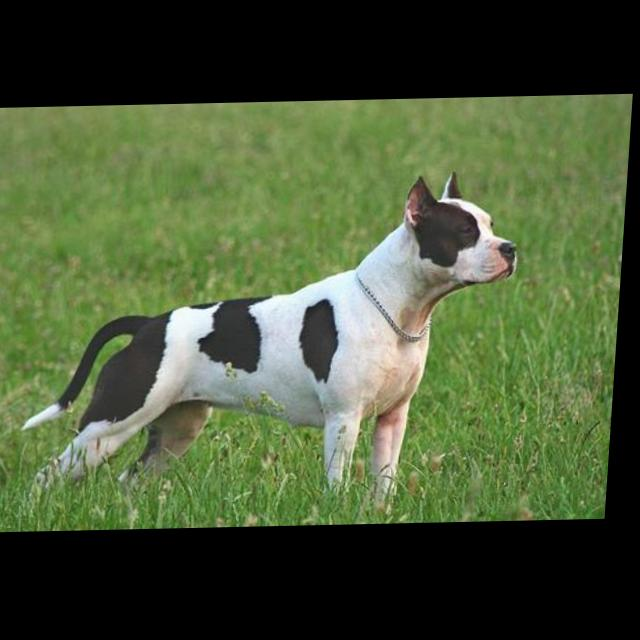amstaff: (25, 172, 529, 524)
